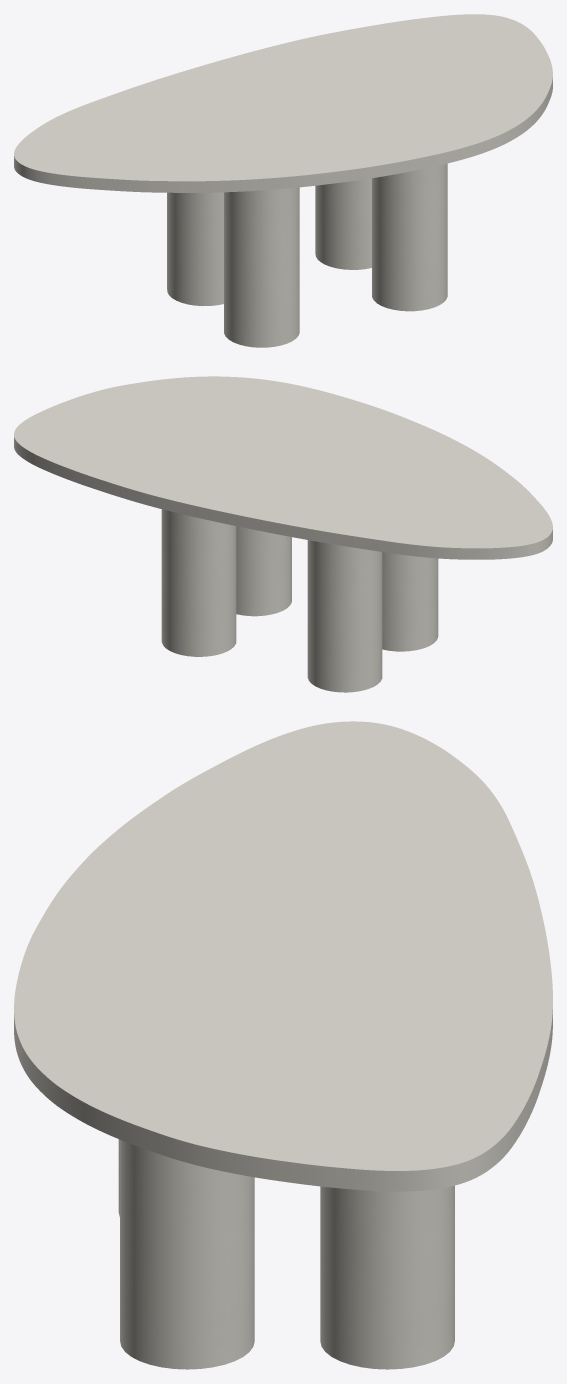
The model's file is pale_pebbletop_standard_grove.glb.
3 views of the same model, one above another, from view 1: azimuth 30°, elevation 25°; view 2: azimuth 150°, elevation 25°; view 3: azimuth 270°, elevation 25° (orthographic). The views are drawn at different scales.
Visible parts, largest first — view 1: standard_pebbletop, grove; view 2: standard_pebbletop, grove; view 3: standard_pebbletop, grove.
Boxes of the visible parts, left/top/right/bottom form: standard_pebbletop: left=14, top=14, right=552, bottom=192; grove: left=167, top=163, right=447, bottom=347; standard_pebbletop: left=14, top=376, right=552, bottom=559; grove: left=161, top=509, right=438, bottom=692; standard_pebbletop: left=14, top=721, right=552, bottom=1191; grove: left=118, top=1139, right=454, bottom=1369.
Size of the model in its own units: 7.5 by 2.51 by 3.8.
1 material, 1 textured.
